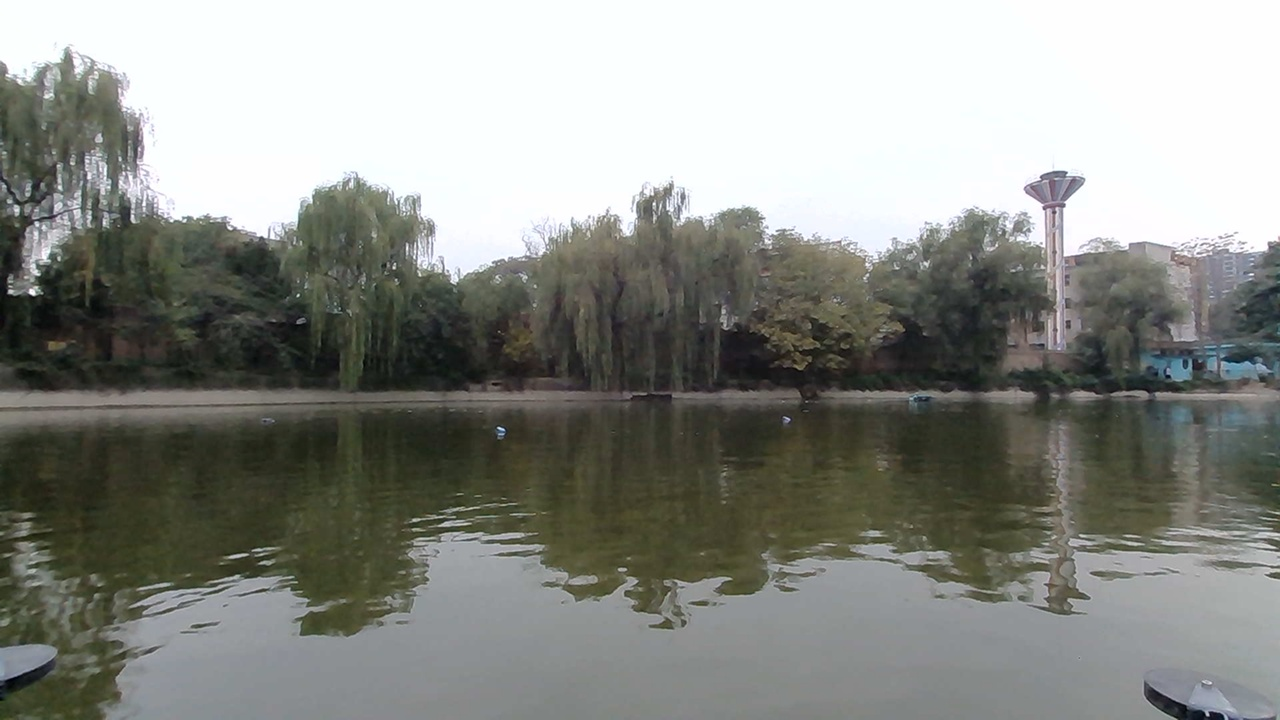bottle: (247, 401, 283, 432), (480, 414, 519, 442), (772, 406, 803, 427)
